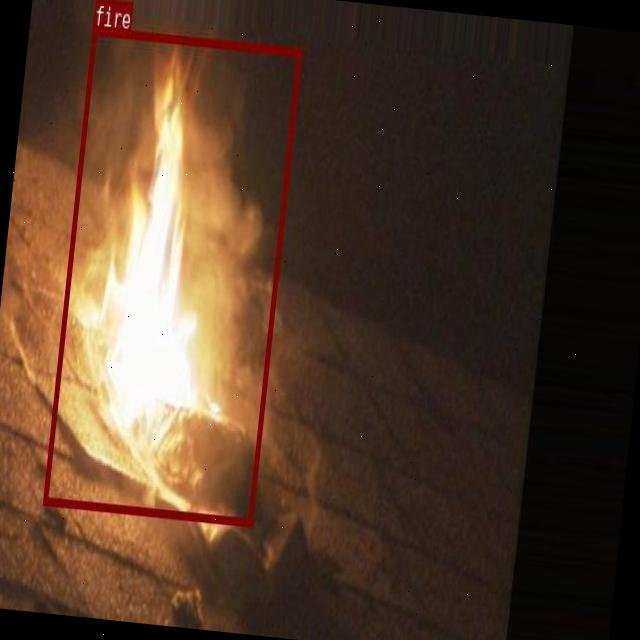fire: (42, 25, 302, 525)
